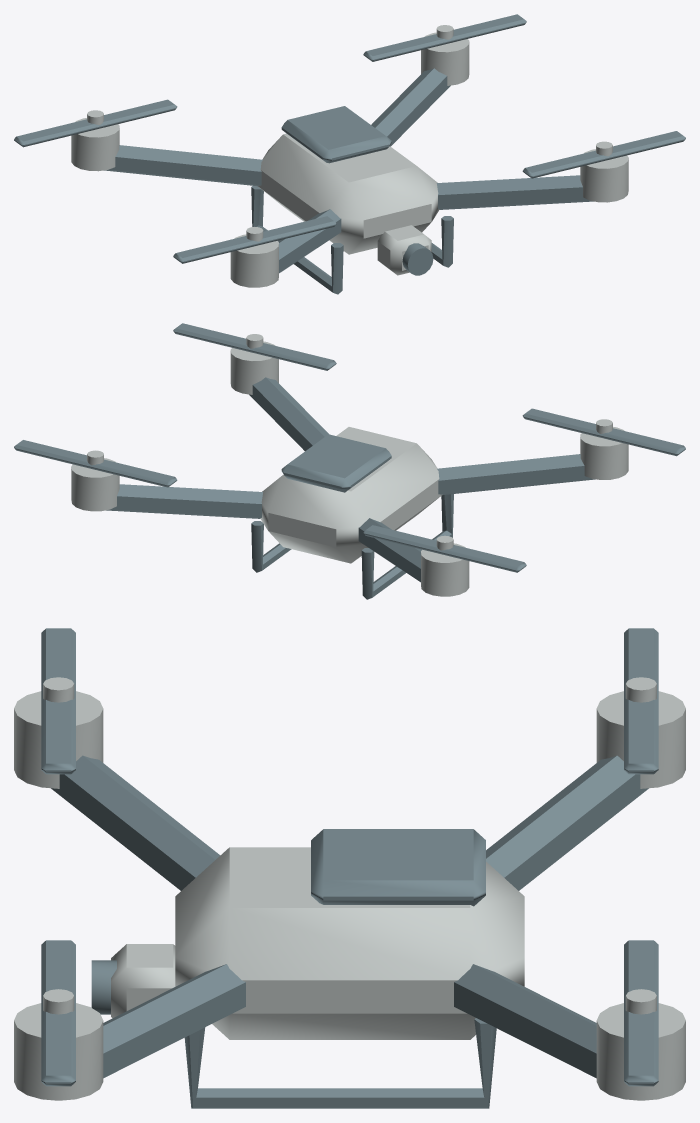
The model's file is drone.glb.
3 views of the same model, one above another, from view 1: azimuth 30°, elevation 25°; view 2: azimuth 150°, elevation 25°; view 3: azimuth 270°, elevation 25° (orthographic). The views are drawn at different scales.
Parts seen in each view (by area): view 1: central_fuselage, folding_arm, folding_arm.003, battery, folding_arm.002, motor.001, propeller.001, propeller.002, propeller, propeller.003, motor.003, motor (+6 smaller); view 2: central_fuselage, folding_arm.001, folding_arm.002, battery, folding_arm.003, motor, propeller.001, propeller.003, propeller, propeller.002, motor.002, motor.001 (+4 smaller); view 3: central_fuselage, battery, folding_arm.001, folding_arm, landing_skid.001, folding_arm.002, folding_arm.003, motor.002, motor.003, motor, motor.001, propeller (+9 smaller).
Part boxes in pixels (bbox=[...]): central_fuselage: bbox=[257, 133, 439, 254]; folding_arm: bbox=[104, 145, 262, 186]; folding_arm.003: bbox=[436, 175, 593, 209]; battery: bbox=[281, 106, 391, 163]; folding_arm.002: bbox=[371, 68, 450, 146]; motor.001: bbox=[230, 234, 278, 287]; propeller.001: bbox=[173, 216, 336, 263]; propeller.002: bbox=[363, 14, 526, 61]; propeller: bbox=[14, 99, 177, 147]; propeller.003: bbox=[522, 131, 685, 178]; motor.003: bbox=[580, 149, 628, 202]; motor: bbox=[71, 118, 119, 171]; central_fuselage: bbox=[260, 427, 442, 563]; folding_arm.001: bbox=[437, 454, 595, 494]; folding_arm.002: bbox=[106, 484, 262, 518]; battery: bbox=[281, 434, 391, 492]; folding_arm.003: bbox=[249, 377, 328, 450]; motor: bbox=[421, 543, 469, 596]; propeller.001: bbox=[522, 408, 685, 456]; propeller.003: bbox=[173, 323, 336, 370]; propeller: bbox=[363, 525, 526, 572]; propeller.002: bbox=[14, 440, 177, 487]; motor.002: bbox=[71, 458, 119, 511]; motor.001: bbox=[580, 427, 628, 479]; central_fuselage: bbox=[175, 847, 524, 1039]; battery: bbox=[311, 829, 485, 906]; folding_arm.001: bbox=[51, 755, 219, 890]; folding_arm: bbox=[486, 755, 648, 890]; landing_skid.001: bbox=[184, 1018, 496, 1108]; folding_arm.002: bbox=[454, 964, 596, 1078]; folding_arm.003: bbox=[103, 964, 245, 1078]; motor.002: bbox=[596, 1003, 685, 1100]; motor.003: bbox=[14, 1003, 103, 1100]; motor: bbox=[596, 691, 685, 788]; motor.001: bbox=[14, 691, 103, 788]; propeller: bbox=[624, 628, 658, 774].
Size of the model in its own units: 0.55 by 0.1247 by 0.346.
